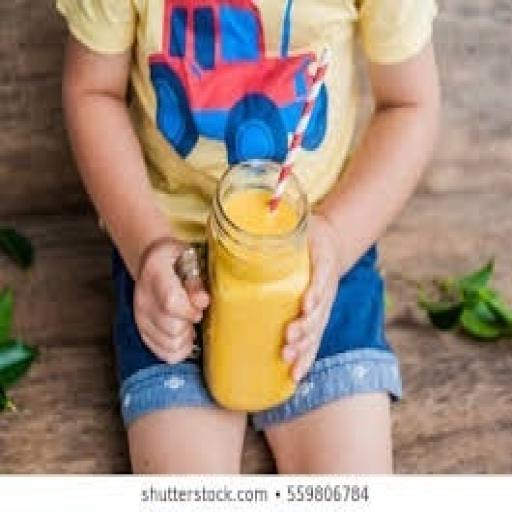drinking: (199, 156, 311, 412)
